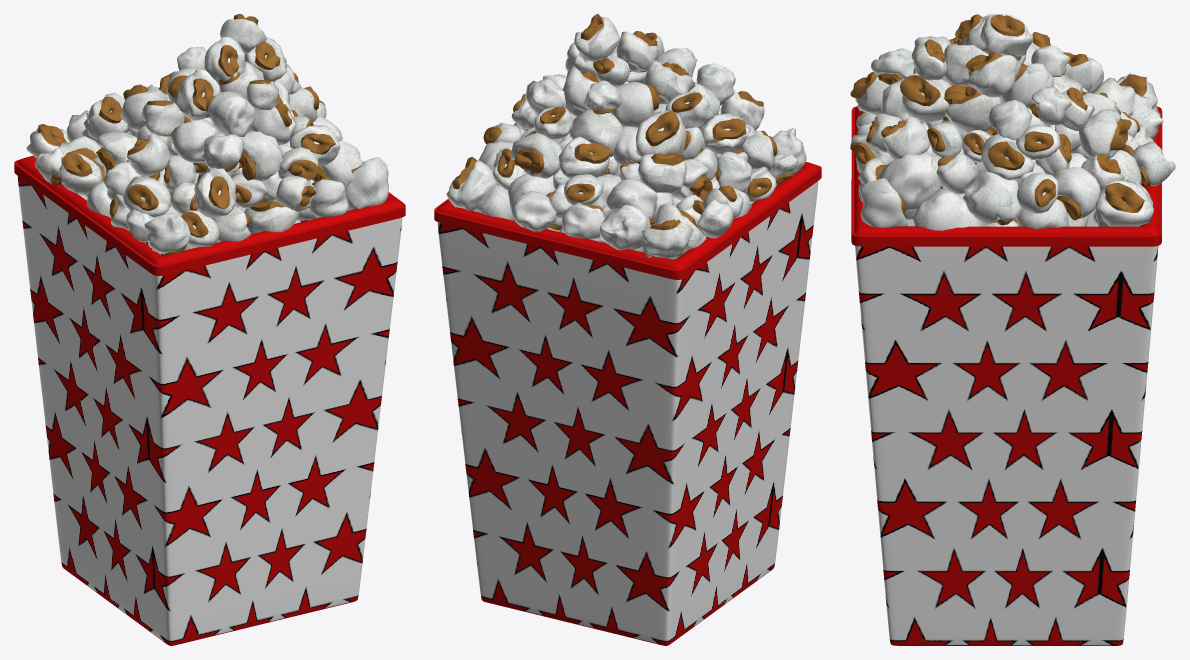
The model's file is fbxPopCorn.fbx.
3 renders of one model, left to right at view 1: azimuth 30°, elevation 25°; view 2: azimuth 150°, elevation 25°; view 3: azimuth 270°, elevation 25°, orthographic. The views are drawn at different scales.
Visible parts, largest first — view 1: cup, corn1; view 2: cup, corn1; view 3: cup, corn1.
Part boxes in pixels (x1,y1,x2,y2): cup: [14, 155, 405, 645]; corn1: [26, 14, 388, 255]; cup: [434, 162, 821, 645]; corn1: [446, 14, 806, 258]; cup: [851, 106, 1162, 645]; corn1: [850, 14, 1175, 230].
Size of the model in its own units: 4.03 by 8.1 by 3.97.
Materials: 3 (3 with a texture image).
